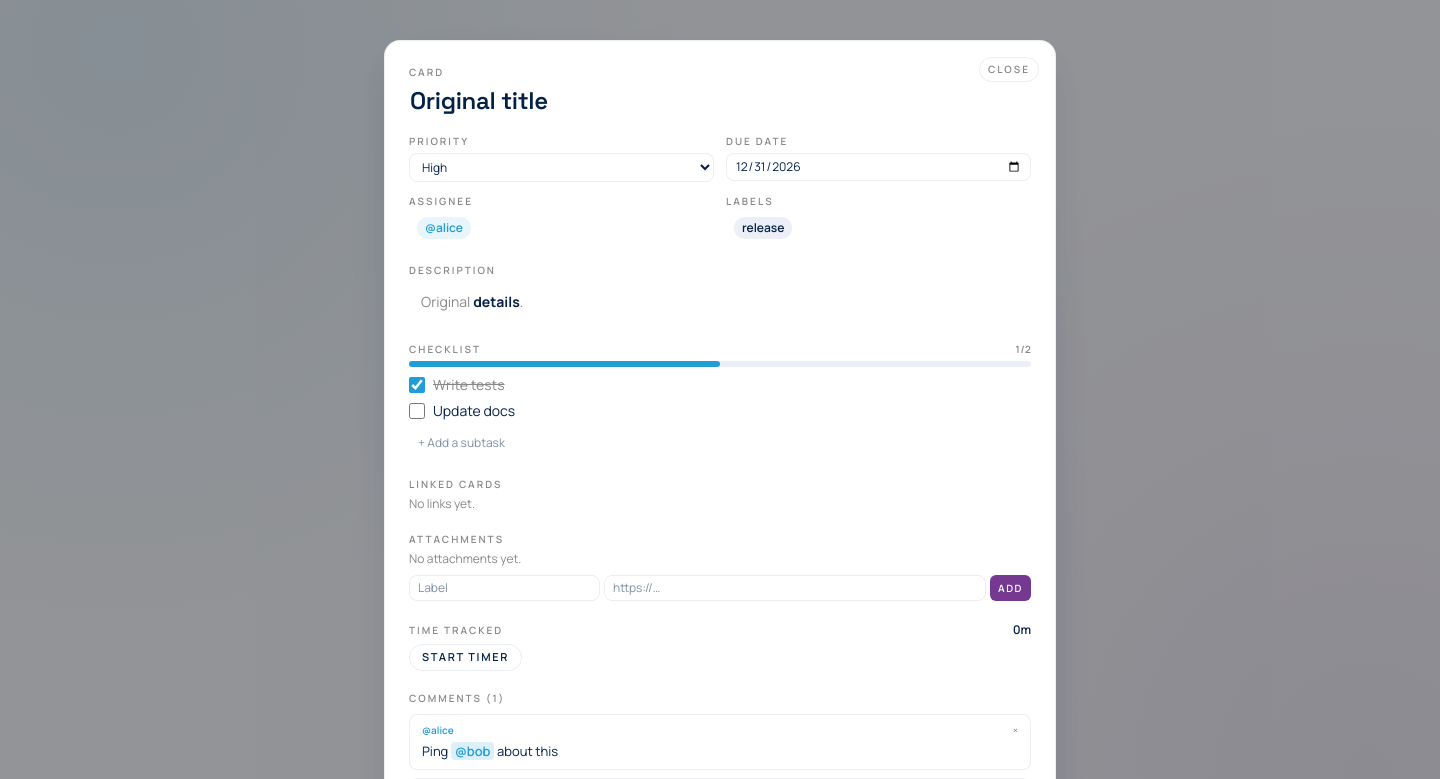
it: CardDetailModal › rejects an attachment URL without an http(s) prefix
Step 1. Type "Bad" into the field named "Attachment label" → (504, 588), box [409, 575, 600, 601]
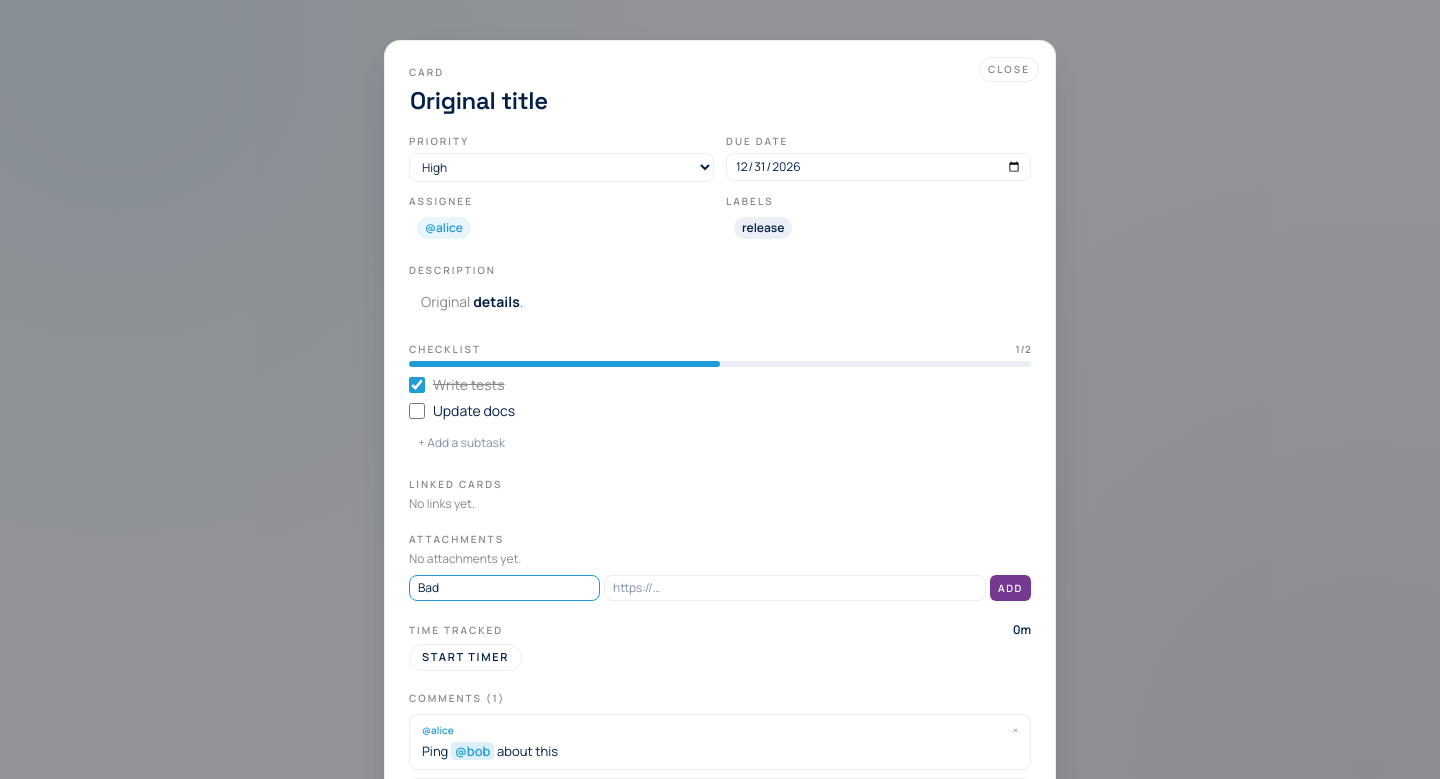
Step 2. Type "javascript:alert(1)" into the field named "Attachment URL" → (795, 588), box [604, 575, 986, 601]
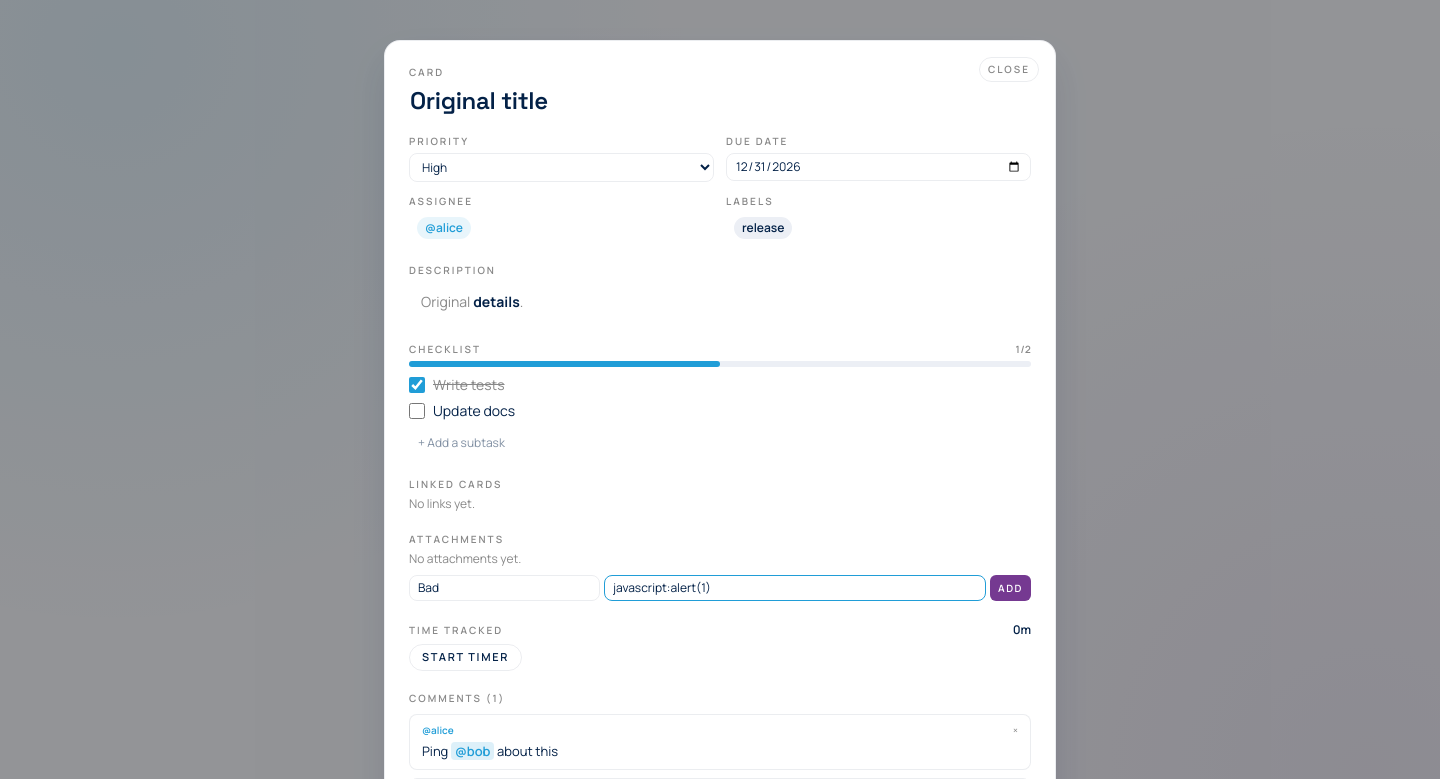
Step 3. Click the button "Add" → (1011, 588), box [990, 575, 1031, 601]
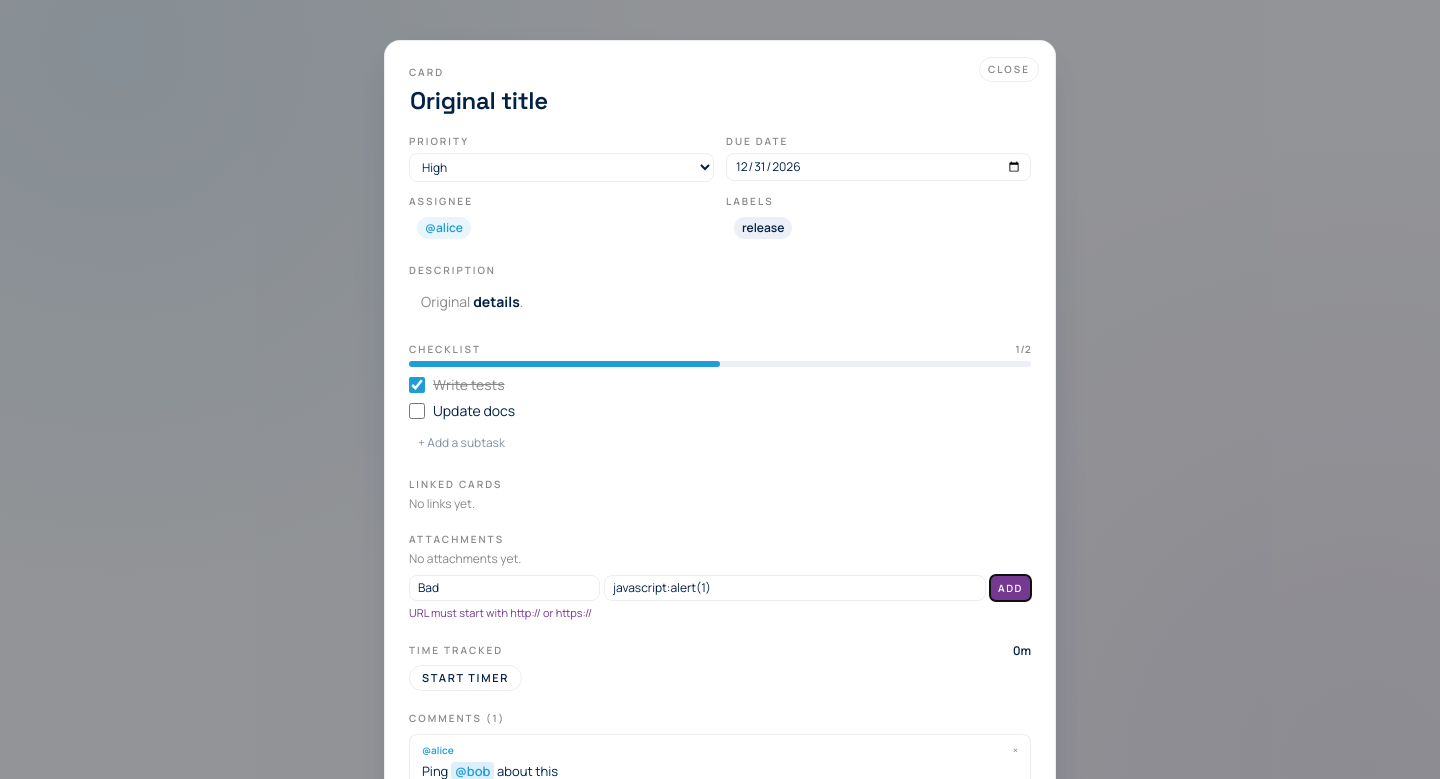
Expected: the message shows "http", [409, 605, 592, 620]
